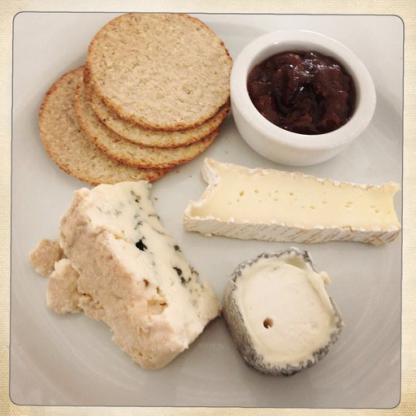cookie: (35, 69, 214, 189), (73, 58, 225, 170), (92, 17, 228, 124)
